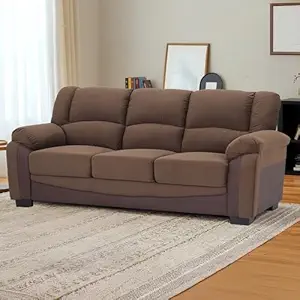3seatersofa: (7, 86, 289, 224)
backrest: (51, 86, 279, 149)
base: (34, 174, 226, 217)
leftarmrest: (226, 129, 290, 218)
leg: (232, 219, 255, 227), (17, 199, 32, 207), (272, 202, 279, 214)
rightarmrest: (6, 123, 66, 200)
seat: (31, 145, 225, 185)
